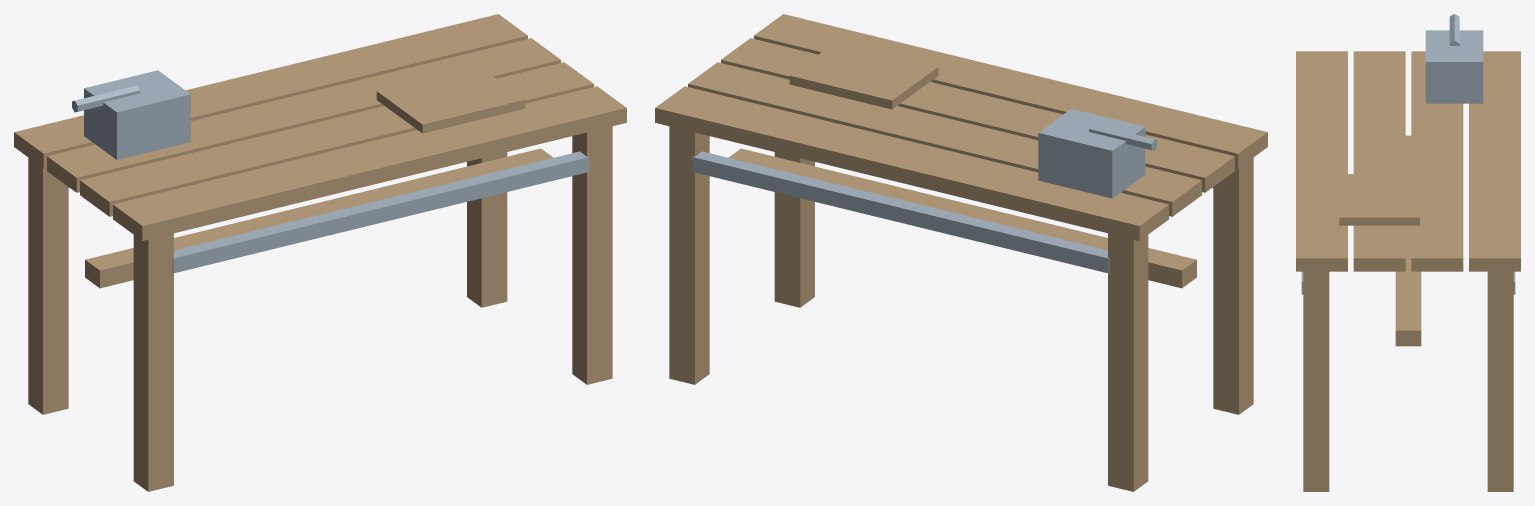
The model's file is wipe-day-survival-island-workbench-tier-one-540da0fa__27463.glb.
3 views of the same model, side by side, from view 1: azimuth 30°, elevation 25°; view 2: azimuth 150°, elevation 25°; view 3: azimuth 270°, elevation 25° (orthographic). The views are drawn at different scales.
Parts seen in each view (by area): view 1: workbench-tier-one; view 2: workbench-tier-one; view 3: workbench-tier-one.
Part boxes in pixels (box(x1,y1,x2,y2)): workbench-tier-one: box(14, 14, 626, 491); workbench-tier-one: box(655, 14, 1267, 491); workbench-tier-one: box(1296, 14, 1520, 491).
Bounding box in the file's own units: 1.7 × 1.09 × 0.7799.
